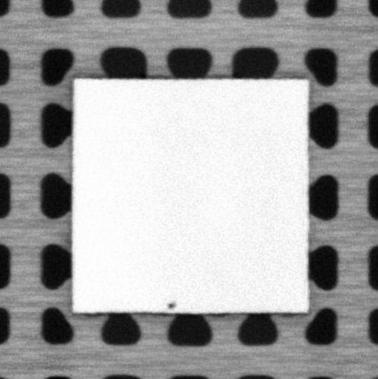DIE_INK: (166, 299, 177, 310)
